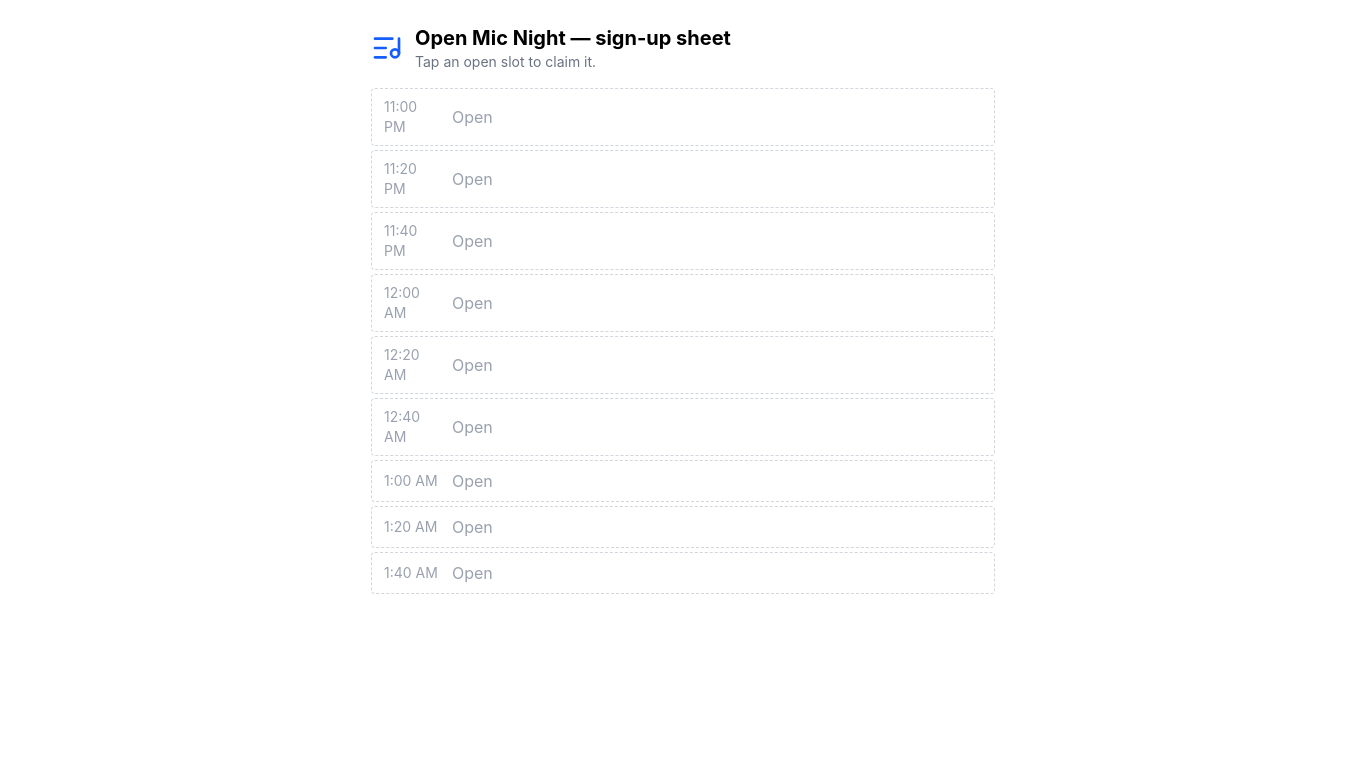
<SignupSheet /> › claims a slot through the per-slot form
Check: the button with aria-label "Sign up for the" is shown, box [371,88,995,146]
Click the button with aria-label "Sign up for the" at {"x": 401, "y": 230}, box [371,212,995,270]
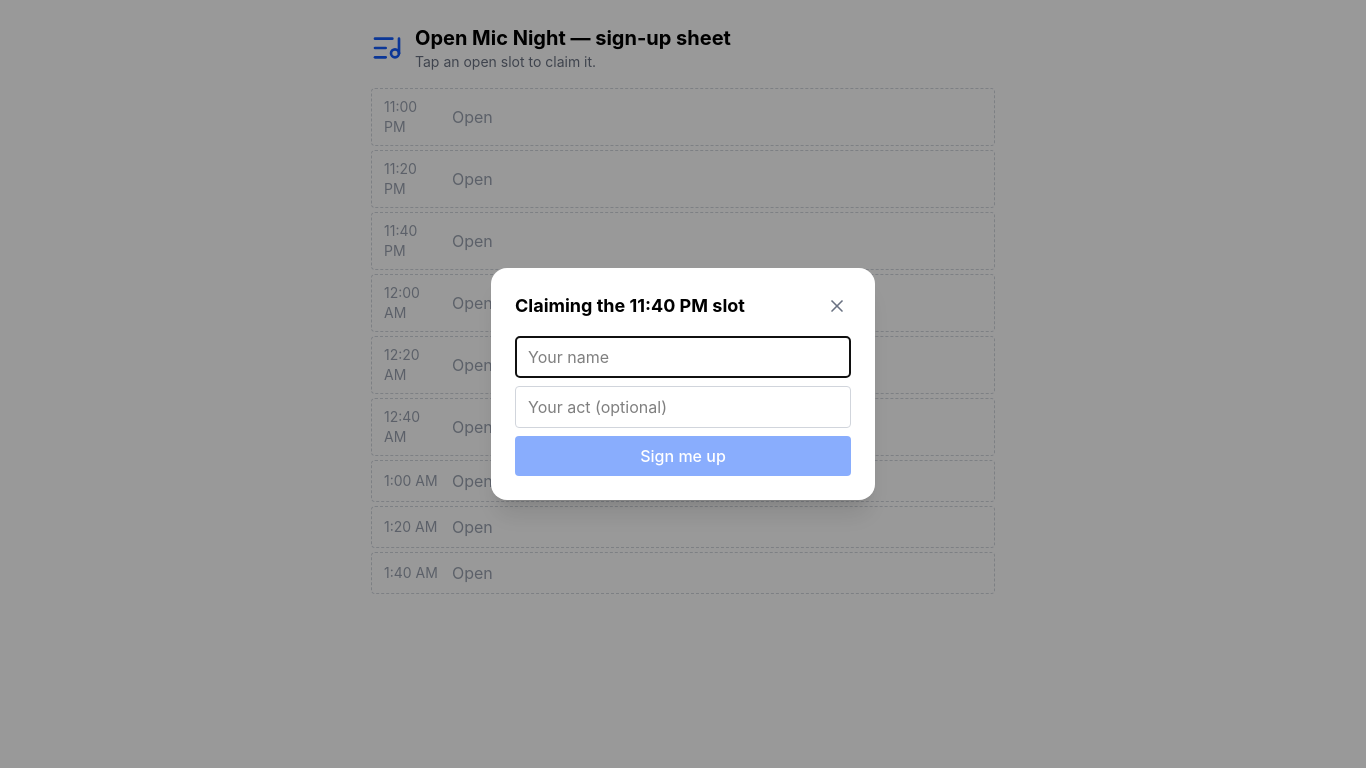
Check: the heading "Claiming the 11:40 PM slot" is shown, box [515,292,745,320]
Type "Brandon" into the field labelled "Your name" at {"x": 683, "y": 357}, box [515,336,851,378]
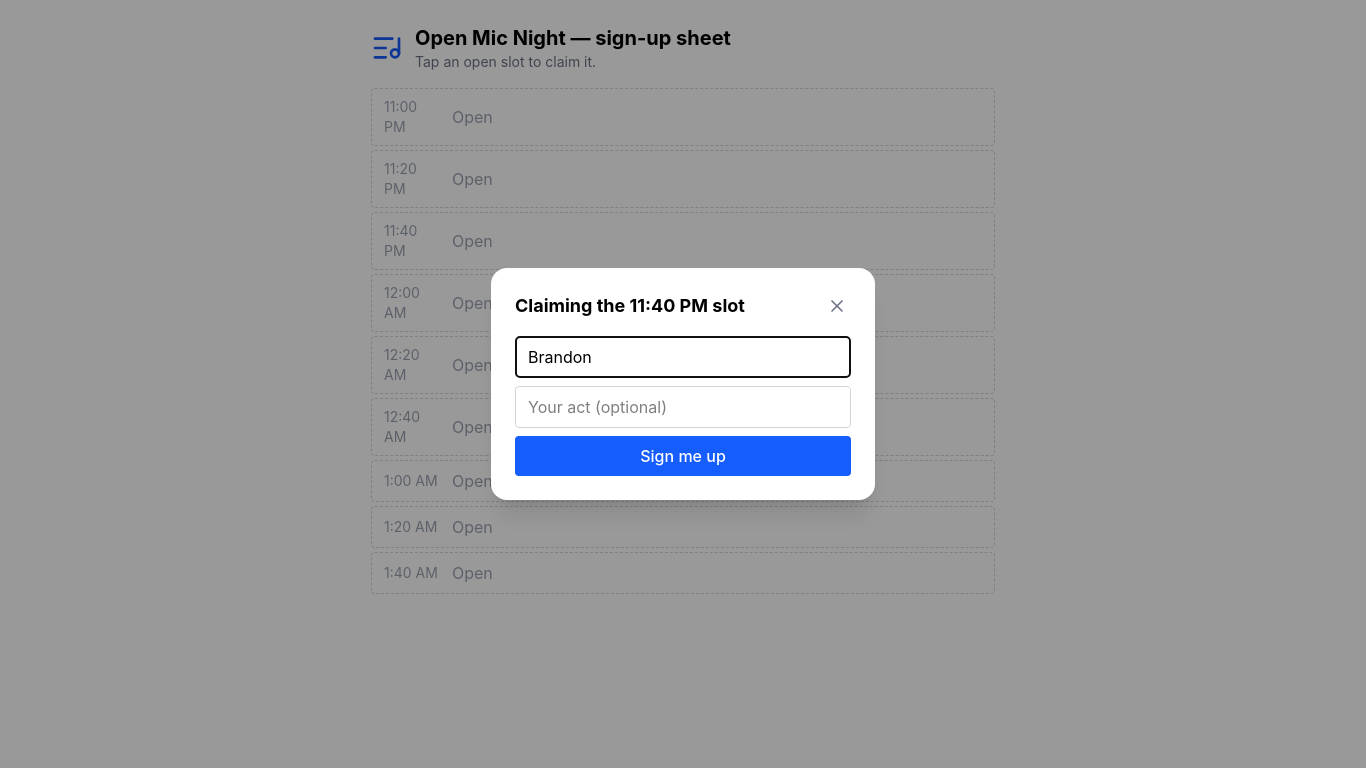
Click the button "Sign me up" at {"x": 683, "y": 456}, box [515,436,851,476]
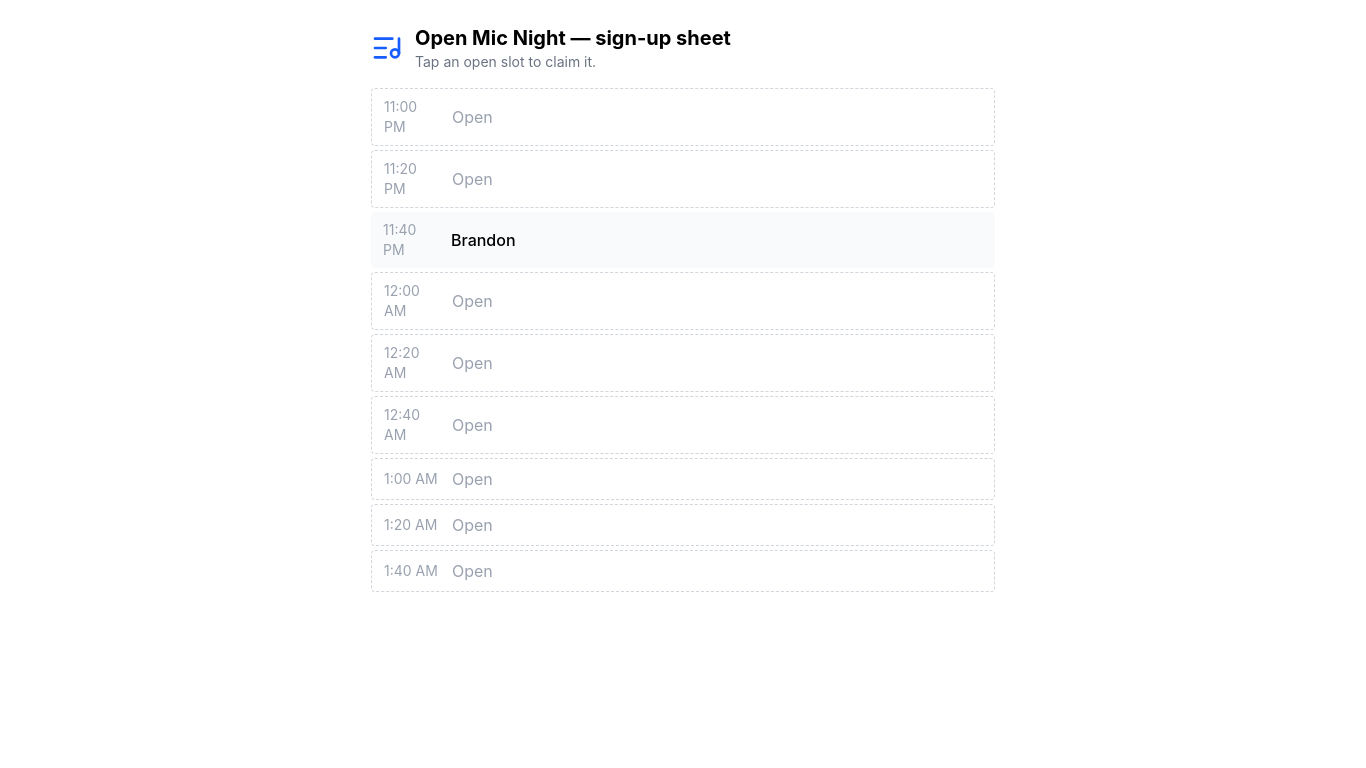
Check: the text "Brandon" is shown, box [451,228,516,252]
Check: the heading "Claiming the" is gone
